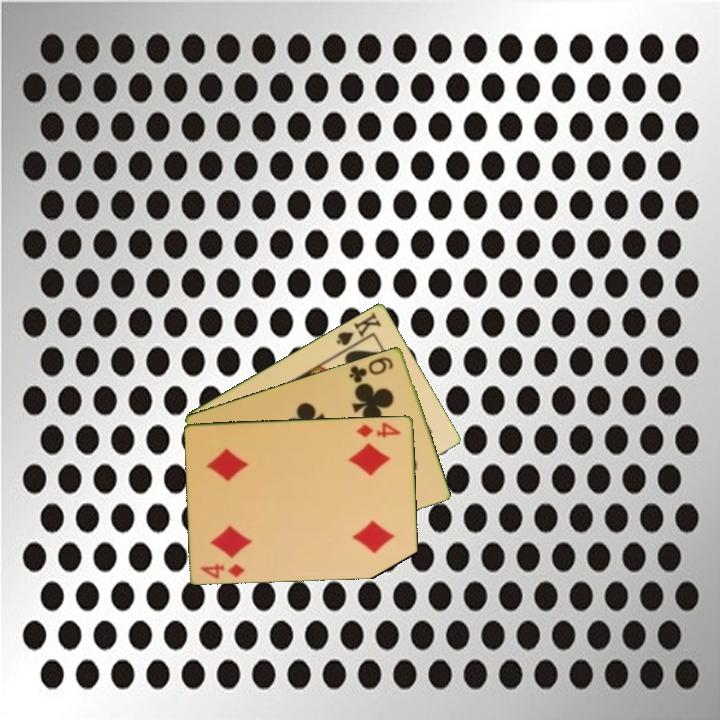4d: (353, 419, 404, 440), (197, 560, 248, 581)
6c: (345, 353, 396, 386)
Ks: (333, 308, 384, 354)
